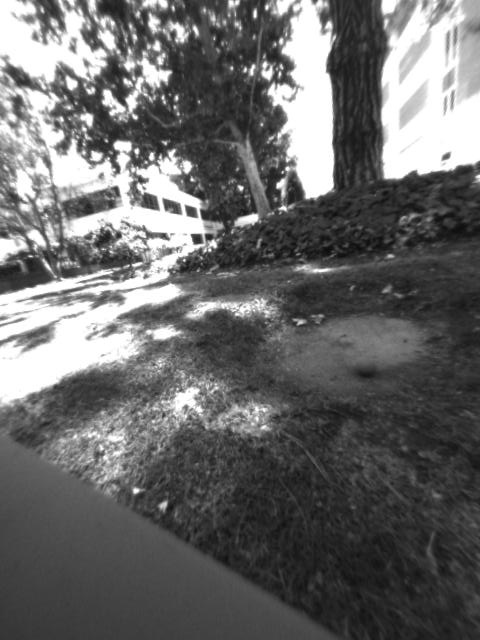dogtoy: (346, 351, 387, 388)
